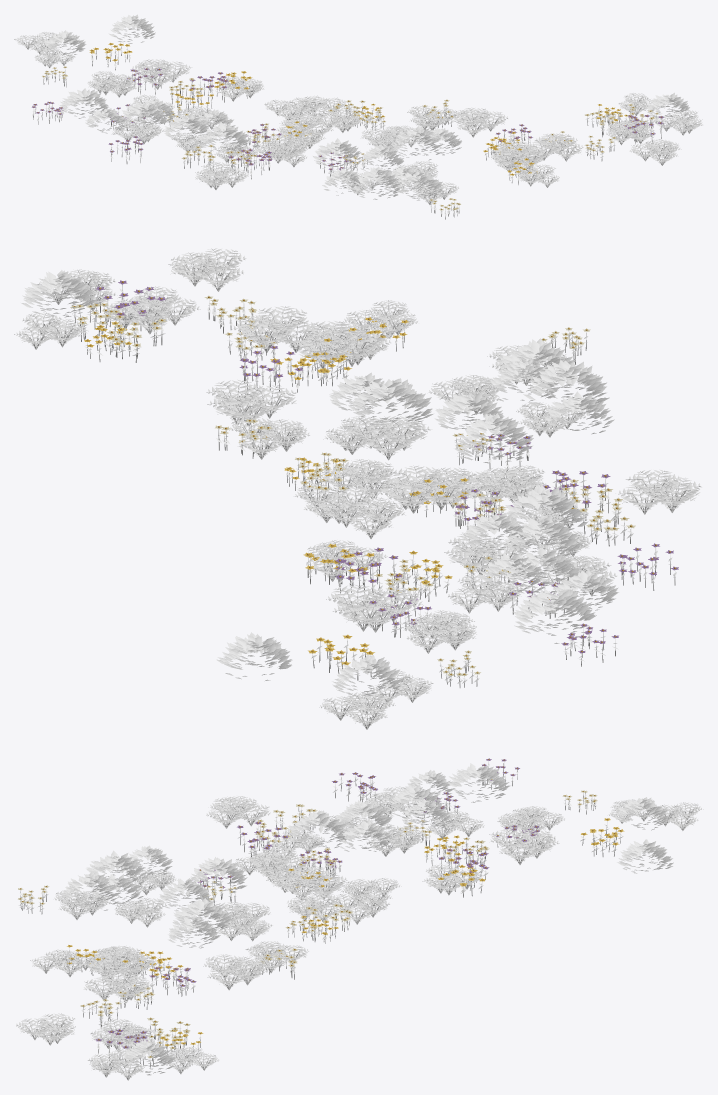
File: SM_NW_Nature_0_0_Flora.fbx
The picture shows the model from 3 angles, top to bottom: view 1: azimuth 30°, elevation 25°; view 2: azimuth 150°, elevation 25°; view 3: azimuth 270°, elevation 25°; orthographic projection. The views are drawn at different scales.
Parts seen in each view (by area): view 1: SM_NW_Nature_0_0_Flora; view 2: SM_NW_Nature_0_0_Flora; view 3: SM_NW_Nature_0_0_Flora.
Boxes of the visible parts, x1,y1,x2,y2 form: SM_NW_Nature_0_0_Flora: (14,14,702,219); SM_NW_Nature_0_0_Flora: (14,248,701,729); SM_NW_Nature_0_0_Flora: (16,758,703,1080).
Bounding box in the file's own units: 2127 × 2063 × 158.
